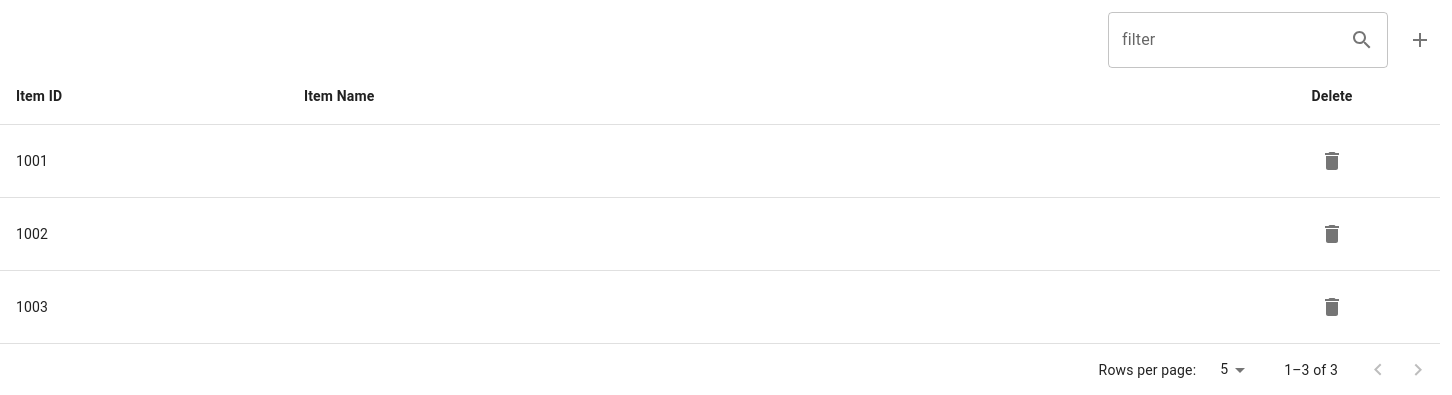
Test: Items › renders filtered items
Expected: the number of rows is 4, [0,68,1440,124]; [0,124,1440,198]; [0,198,1440,270]; [0,270,1440,344]
# change text of "Filter"
Type "001" into the field labelled "filter" at (1225, 40), box [1108,12,1342,68]
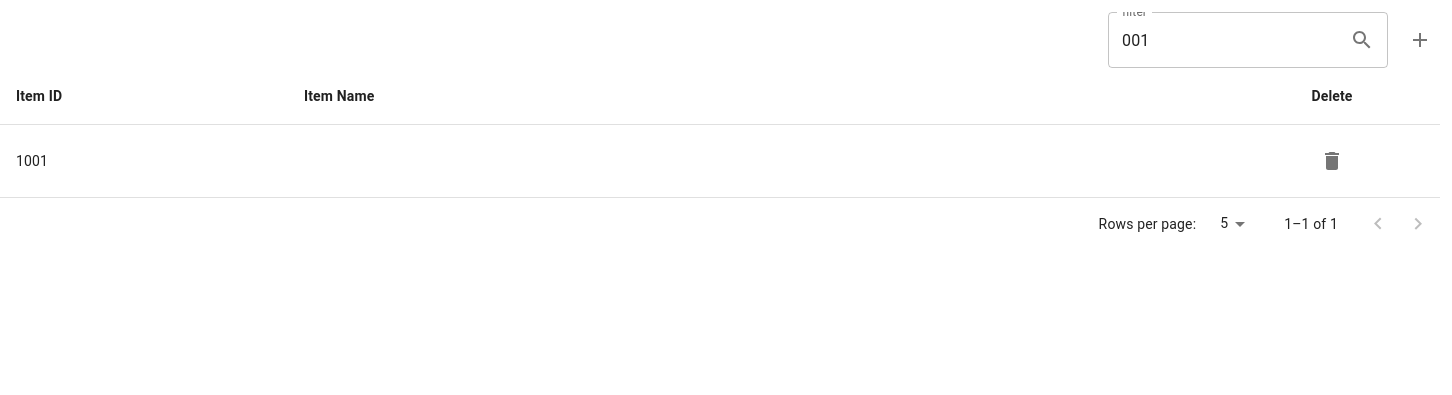
Expected: the number of rows is 2, [0,68,1440,124]; [0,124,1440,198]
